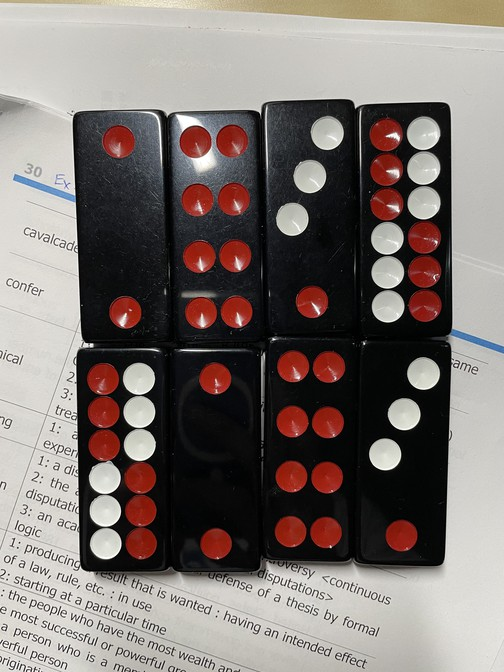earth: (76, 110, 170, 347), (169, 348, 264, 574)
goose: (262, 101, 358, 338), (360, 342, 449, 567)
heaven: (354, 102, 454, 342), (76, 348, 168, 575)
man: (171, 109, 263, 347), (267, 338, 357, 565)
